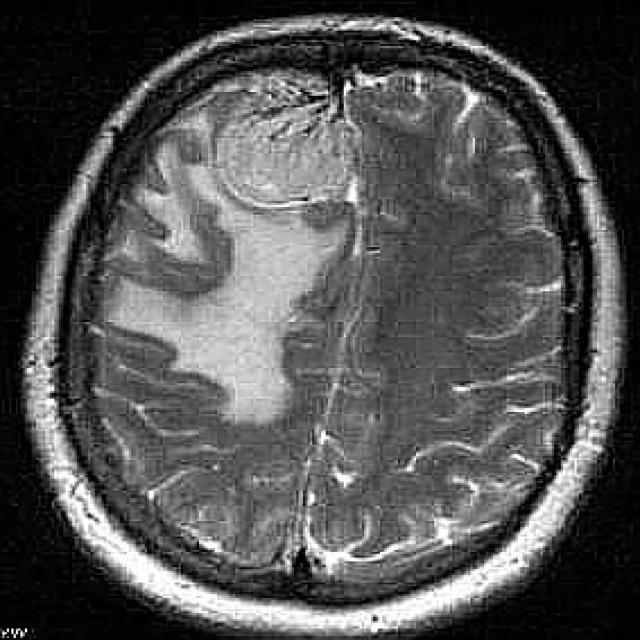Tumor-Cell: (197, 85, 385, 228)
